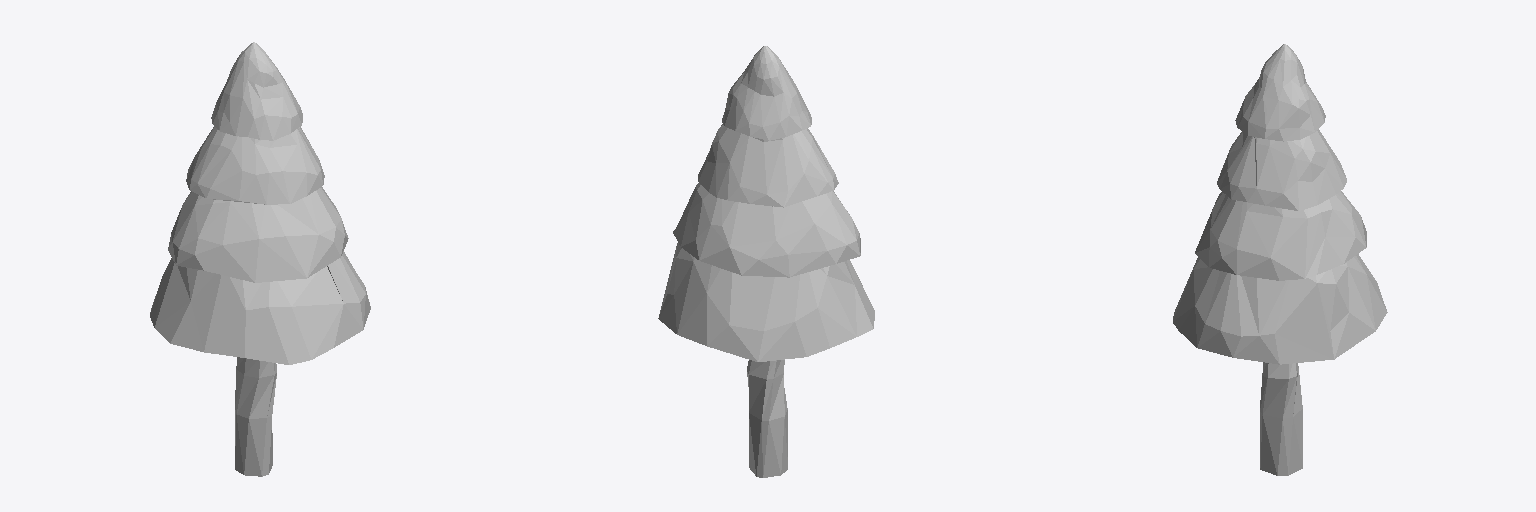
The model's file is Pine4.obj.
3 views of the same model, side by side, from view 1: azimuth 30°, elevation 25°; view 2: azimuth 150°, elevation 25°; view 3: azimuth 270°, elevation 25° (orthographic).
Visible parts, largest first — view 1: Cube.001_Cube.003; view 2: Cube.001_Cube.003; view 3: Cube.001_Cube.003.
Part boxes in pixels (left/top/right/bottom): Cube.001_Cube.003: left=150, top=42, right=370, bottom=476; Cube.001_Cube.003: left=658, top=46, right=874, bottom=477; Cube.001_Cube.003: left=1173, top=44, right=1387, bottom=475.
Bounding box in the file's own units: 7.28 × 15.44 × 7.09.